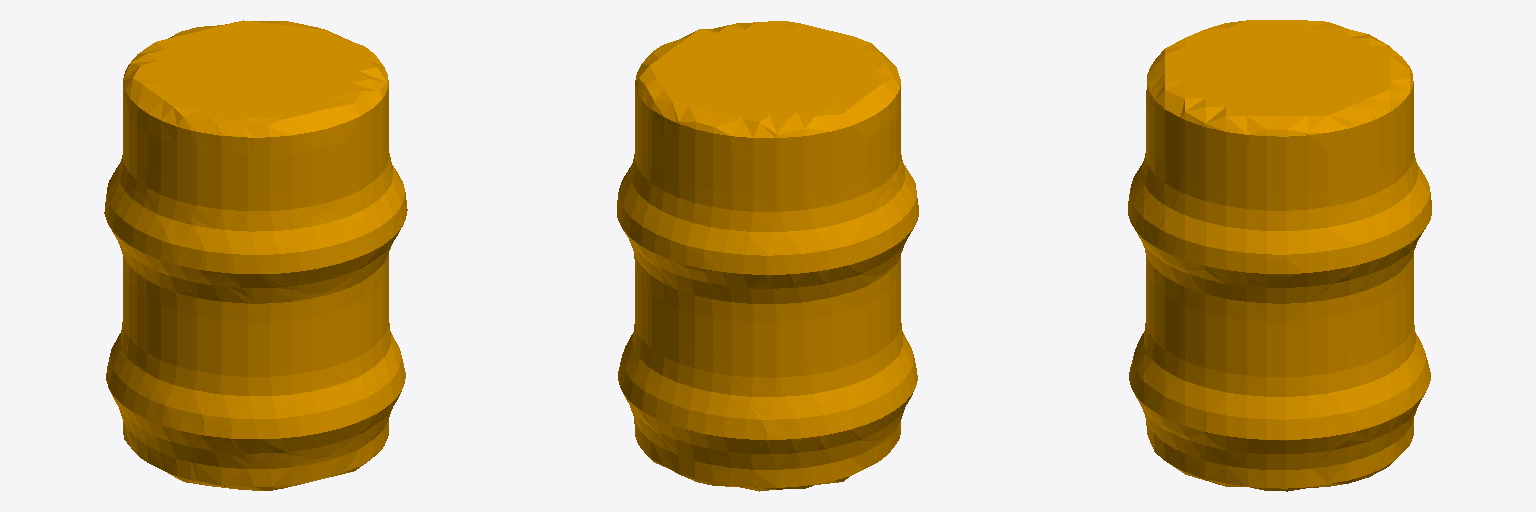
robot.urdf — cylinder_../../meshes/cylinders/cylinder_50.stl:
<?xml version="1.0" encoding="utf-8"?>  <robot name="cylinder_../../meshes/cylinders/cylinder_50.stl">   <link name="cylinder_../../meshes/cylinders/cylinder_50.stl">     <visual>       <geometry>         <mesh filename="../meshes/cylinders/cylinder_50.stl" scale="1 1 1"/>       </geometry>     </visual>     <collision>       <geometry>         <mesh filename="../meshes/cylinders/cylinder_50.stl" scale="1 1 1"/>       </geometry>     </collision>     <inertial>        <origin         xyz="0 0 0"         rpy="0 0 0" />       <mass value="0.3578730713149512"/>       <origin rpy="0 0 0" xyz="0 0 0"/>       <inertia ixx="0.00039322656624731617" ixy="-2.3814886179103434e-08" ixz="1.67354985649282e-09" iyy="0.0003932256913843735" iyz="-6.49119999717697e-09" izz="0.00020526175639278907"/>     </inertial>   </link>  </robot>

--- Facts derived from the render (not from the file) ---
The picture shows the robot from 3 angles, left to right: view 1: azimuth 30°, elevation 25°; view 2: azimuth 150°, elevation 25°; view 3: azimuth 270°, elevation 25°; orthographic projection.
Robot: cylinder_../../meshes/cylinders/cylinder_50.stl — 1 links, 0 joints (none); root link cylinder_../../meshes/cylinders/cylinder_50.stl; default pose: all joints at 0.
Links seen in each view (by area): view 1: cylinder_../../meshes/cylinders/cylinder_50.stl; view 2: cylinder_../../meshes/cylinders/cylinder_50.stl; view 3: cylinder_../../meshes/cylinders/cylinder_50.stl.
Link boxes in pixels (x1=…): cylinder_../../meshes/cylinders/cylinder_50.stl: x1=104, y1=20, x2=407, y2=490; cylinder_../../meshes/cylinders/cylinder_50.stl: x1=617, y1=21, x2=918, y2=491; cylinder_../../meshes/cylinders/cylinder_50.stl: x1=1128, y1=20, x2=1431, y2=491.
Bounding box of the posed robot: 0.0745 × 0.0745 × 0.1002 m (x, y, z).
1 mesh visuals loaded from 1 distinct referenced files (1 binary STL).